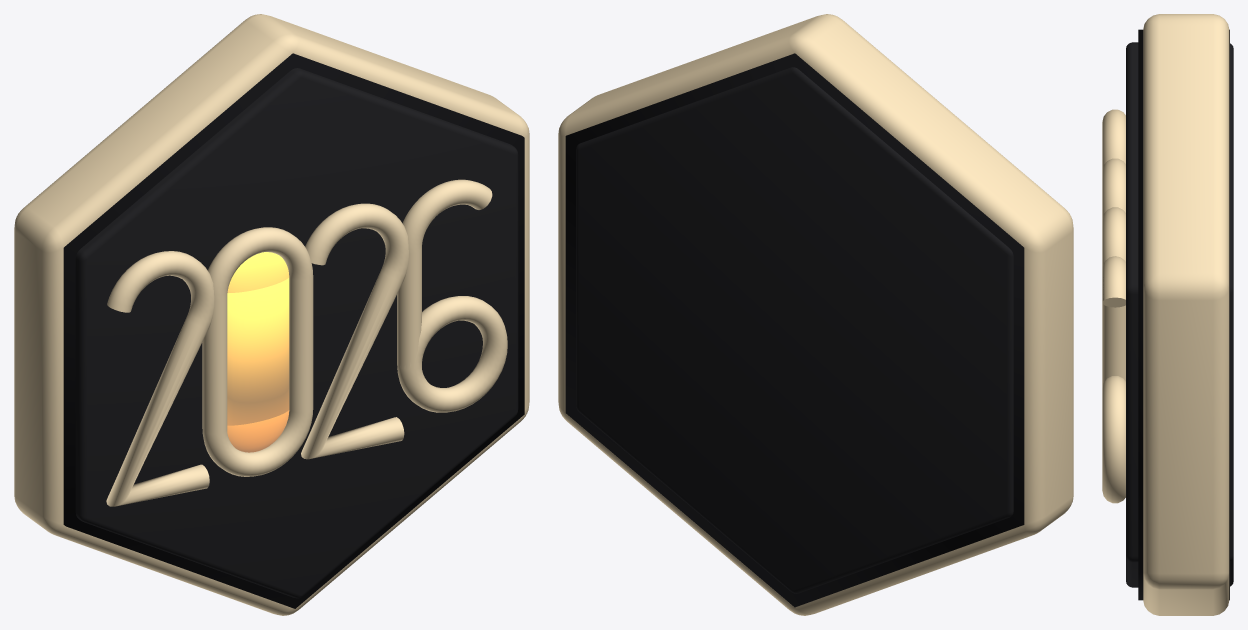
File: year-2026.glb
The picture shows the model from 3 angles, left to right: view 1: azimuth 30°, elevation 25°; view 2: azimuth 150°, elevation 25°; view 3: azimuth 270°, elevation 25°; orthographic projection. The views are drawn at different scales.
Visible parts, largest first — view 1: panel, bezel, groove, zero, Cylinder, two, two.001, six_loop, six_stem; view 2: panel, bezel, groove; view 3: bezel, panel, groove, six_loop, six_stem, two.001, two, zero.
Part boxes in pixels (x1=…): panel: x1=75, y1=68, x2=518, y2=598; bezel: x1=14, y1=14, x2=529, y2=615; groove: x1=63, y1=53, x2=524, y2=608; zero: x1=202, y1=227, x2=313, y2=476; Cylinder: x1=227, y1=252, x2=289, y2=452; two: x1=106, y1=251, x2=214, y2=506; two.001: x1=301, y1=203, x2=408, y2=459; six_loop: x1=397, y1=296, x2=507, y2=412; six_stem: x1=397, y1=179, x2=492, y2=369; panel: x1=576, y1=67, x2=1013, y2=593; bezel: x1=558, y1=14, x2=1073, y2=615; groove: x1=565, y1=53, x2=1024, y2=607; bezel: x1=1143, y1=14, x2=1229, y2=615; panel: x1=1126, y1=42, x2=1233, y2=587; groove: x1=1138, y1=29, x2=1229, y2=600; six_loop: x1=1102, y1=376, x2=1125, y2=503; six_stem: x1=1102, y1=256, x2=1125, y2=385; two.001: x1=1102, y1=207, x2=1125, y2=387; two: x1=1102, y1=109, x2=1125, y2=169; zero: x1=1102, y1=158, x2=1125, y2=218.
Bounding box in the file's own units: 1.07 × 1.22 × 0.244.
